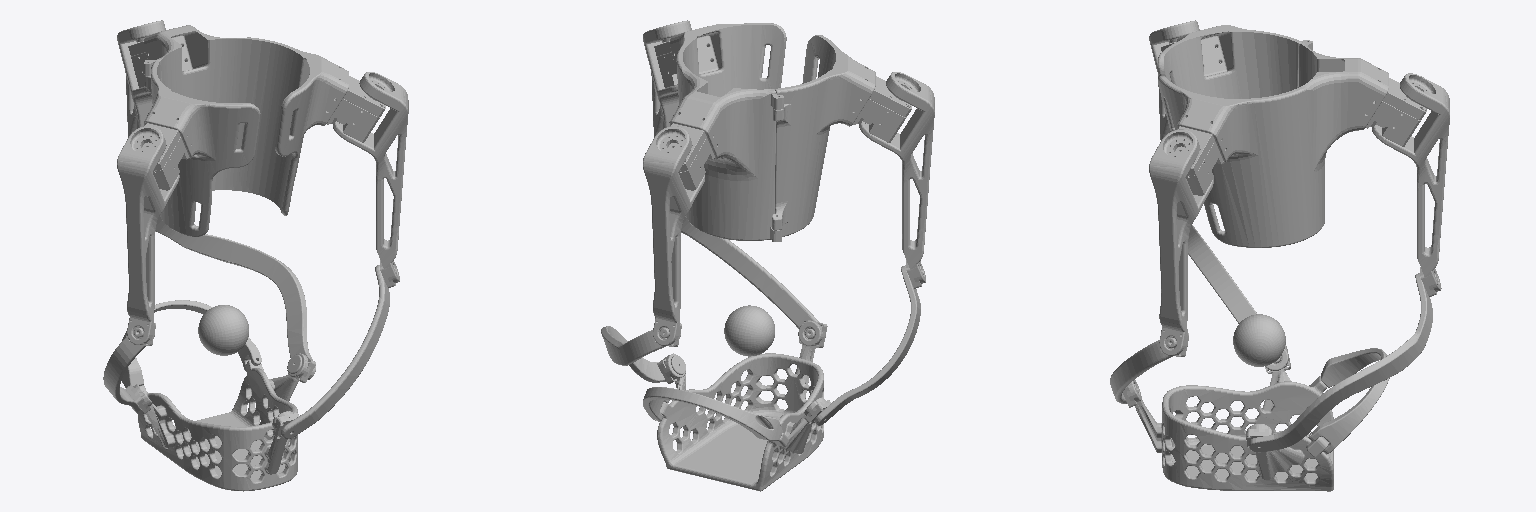
robot.urdf — rh1:
<?xml version="1.0"?>
<!-- This URDF was automatically created by SolidWorks to URDF Exporter! Originally created by Stephen Brawner (brawner@gmail.com) 
     Commit Version: 1.6.0-4-g7f85cfe  Build Version: 1.6.7995.38578
     For more information, please see http://wiki.ros.org/sw_urdf_exporter -->
<robot
  name="rh1">
    <link name="world">
  </link>
  <joint name="base_to_wrold" type="fixed">
    <parent link="world"/> 
    <child link="base_link"/>
  </joint> 



  <link
    name="base_link">
    <inertial>
      <origin
        xyz="-9.89578390172552E-05 0.00396138423389414 0.0411335608160095"
        rpy="0 0 0" />
      <mass
        value="0.170511519490799" />
      <inertia
        ixx="0.000238526585134772"
        ixy="1.0932688478346E-06"
        ixz="8.41039025861367E-07"
        iyy="0.000214531783450309"
        iyz="8.43440257339762E-06"
        izz="0.000362941851636617" />
    </inertial>
    <visual>
      <origin
        xyz="0 0 0"
        rpy="0 0 0" />
      <geometry>
        <mesh
          filename="package://rh1/meshes/visual/base_link.STL" />
      </geometry>
      <material
        name="">
        <color
          rgba="0.752941176470588 0.752941176470588 0.752941176470588 1" />
      </material>
    </visual>
    <collision>
      <origin
        xyz="0 0 0"
        rpy="0 0 0" />
      <geometry>
        <mesh
          filename="package://rh1/meshes/visual/base_link.STL" />
      </geometry>
    </collision>
  </link>
  <link
    name="Link1">
    <inertial>
      <origin
        xyz="0.0595761636128956 -0.0381714139611611 0.0213524140159522"
        rpy="0 0 0" />
      <mass
        value="0.0139403061893374" />
      <inertia
        ixx="1.66858790034276E-05"
        ixy="1.15779908683568E-05"
        ixz="-1.18115279988749E-05"
        iyy="2.73380199393324E-05"
        iyz="7.56784792835447E-06"
        izz="2.60022691918555E-05" />
    </inertial>
    <visual>
      <origin
        xyz="0 0 0"
        rpy="0 0 0" />
      <geometry>
        <mesh
          filename="package://rh1/meshes/visual/Link1.STL" />
      </geometry>
      <material
        name="">
        <color
          rgba="0.752941176470588 0.752941176470588 0.752941176470588 1" />
      </material>
    </visual>
    <collision>
      <origin
        xyz="0 0 0"
        rpy="0 0 0" />
      <geometry>
        <mesh
          filename="package://rh1/meshes/visual/Link1.STL" />
      </geometry>
    </collision>
  </link>
  <joint
    name="joint1"
    type="revolute">
    <origin
      xyz="-0.00024316 -0.093653 0.063941"
      rpy="-1.1653 0 0" />
    <parent
      link="base_link" />
    <child
      link="Link1" />
    <axis
      xyz="0 0 1" />
    <limit
      lower="-3.14"
      upper="3.14"
      effort="0"
      velocity="0" />
  </joint>
  <link
    name="Link2">
    <inertial>
      <origin
        xyz="7.33342596648257E-08 0.0919365461921934 -0.0349000401041466"
        rpy="0 0 0" />
      <mass
        value="0.0488710971031766" />
      <inertia
        ixx="0.000100540082861538"
        ixy="-4.11665445003469E-11"
        ixz="1.05149444449355E-11"
        iyy="1.86993598480774E-05"
        iyz="2.93347870041737E-05"
        izz="8.6350497225283E-05" />
    </inertial>
    <visual>
      <origin
        xyz="0 0 0"
        rpy="0 0 0" />
      <geometry>
        <mesh
          filename="package://rh1/meshes/visual/Link2.STL" />
      </geometry>
      <material
        name="">
        <color
          rgba="0.752941176470588 0.752941176470588 0.752941176470588 1" />
      </material>
    </visual>
    <collision>
      <origin
        xyz="0 0 0"
        rpy="0 0 0" />
      <geometry>
        <mesh
          filename="package://rh1/meshes/visual/Link2.STL" />
      </geometry>
    </collision>
  </link>
  <joint
    name="joint2"
    type="revolute">
    <origin
      xyz="0.11105 -0.071151 0.068863"
      rpy="1.0806 0.92034 -2.5422" />
    <parent
      link="Link1" />
    <child
      link="Link2" />
    <axis
      xyz="0 0 -1" />
    <limit
      lower="-3.14"
      upper="3.14"
      effort="0"
      velocity="0" />
  </joint>
  <link
    name="Link3">
    <inertial>
      <origin
        xyz="-0.0040437 0.094764 0.057759"
        rpy="0 0 0" />
      <mass
        value="0.39517" />
      <inertia
        ixx="0.00073579"
        ixy="0.00012945"
        ixz="0.0001153"
        iyy="0.00058373"
        iyz="-3.9011E-05"
        izz="0.00057047" />
    </inertial>
    <visual>
      <origin
        xyz="0 0 0"
        rpy="0 0 0" />
      <geometry>
        <mesh
          filename="package://rh1/meshes/visual/Link3.STL" />
      </geometry>
      <material
        name="">
        <color
          rgba="0.75294 0.75294 0.75294 1" />
      </material>
    </visual>
    <collision>
      <origin
        xyz="0 0 0"
        rpy="0 0 0" />
      <geometry>
        <mesh
          filename="package://rh1/meshes/visual/Link3.STL" />
      </geometry>
    </collision>
  </link>
  <joint
    name="joint3"
    type="revolute">
    <origin
      xyz="0 0.1355 -0.031331"
      rpy="0.67602 0 0" />
    <parent
      link="Link2" />
    <child
      link="Link3" />
    <axis
      xyz="0 0 1" />
    <limit
      lower="-3.14"
      upper="3.14"
      effort="0"
      velocity="0" />
  </joint>
  <link
    name="Link4">
    <inertial>
      <origin
        xyz="-0.0444266184876221 0.0512750104381572 0.00184714563025645"
        rpy="0 0 0" />
      <mass
        value="0.0131177442111698" />
      <inertia
        ixx="1.65988183595215E-05"
        ixy="1.15204148826782E-05"
        ixz="3.88147683126482E-06"
        iyy="1.32842148169202E-05"
        iyz="-4.47985138422908E-06"
        izz="2.37865852527767E-05" />
    </inertial>
    <visual>
      <origin
        xyz="0 0 0"
        rpy="0 0 0" />
      <geometry>
        <mesh
          filename="package://rh1/meshes/visual/Link4.STL" />
      </geometry>
      <material
        name="">
        <color
          rgba="0.752941176470588 0.752941176470588 0.752941176470588 1" />
      </material>
    </visual>
    <collision>
      <origin
        xyz="0 0 0"
        rpy="0 0 0" />
      <geometry>
        <mesh
          filename="package://rh1/meshes/visual/Link4.STL" />
      </geometry>
    </collision>
  </link>
  <joint
    name="joint4"
    type="revolute">
    <origin
      xyz="-0.070045 0.01858 0.058418"
      rpy="0.97468 0 1.388" />
    <parent
      link="base_link" />
    <child
      link="Link4" />
    <axis
      xyz="0 0 1" />
    <limit
      lower="-3.14"
      upper="3.14"
      effort="0"
      velocity="0" />
  </joint>
  <link
    name="Link5">
    <inertial>
      <origin
        xyz="1.19788753145667E-05 0.0919350834021235 -0.0353942215193617"
        rpy="0 0 0" />
      <mass
        value="0.0488711044215503" />
      <inertia
        ixx="0.00010054008442932"
        ixy="-4.02538217941285E-11"
        ixz="1.06635228126978E-11"
        iyy="1.86993599328113E-05"
        iyz="2.93347862770357E-05"
        izz="8.63504998437201E-05" />
    </inertial>
    <visual>
      <origin
        xyz="0 0 0"
        rpy="0 0 0" />
      <geometry>
        <mesh
          filename="package://rh1/meshes/visual/Link5.STL" />
      </geometry>
      <material
        name="">
        <color
          rgba="0.752941176470588 0.752941176470588 0.752941176470588 1" />
      </material>
    </visual>
    <collision>
      <origin
        xyz="0 0 0"
        rpy="0 0 0" />
      <geometry>
        <mesh
          filename="package://rh1/meshes/visual/Link5.STL" />
      </geometry>
    </collision>
  </link>
  <joint
    name="joint5"
    type="revolute">
    <origin
      xyz="-0.082937 0.095722 0.033269"
      rpy="1.0995 0.56705 0.44676" />
    <parent
      link="Link4" />
    <child
      link="Link5" />
    <axis
      xyz="0 0 -1" />
    <limit
      lower="-3.14"
      upper="3.14"
      effort="0"
      velocity="0" />
  </joint>
  <!-- <link
    name="Link5_3">
    <inertial>
      <origin
        xyz="0.0043209 0.094334 0.074904"
        rpy="0 0 0" />
      <mass
        value="0.39517" />
      <inertia
        ixx="0.00044691"
        ixy="1.7137E-05"
        ixz="-3.5632E-05"
        iyy="0.00079394"
        iyz="8.9803E-05"
        izz="0.00064915" />
    </inertial>
    <visual>
      <origin
        xyz="0 0 0"
        rpy="0 0 0" />
      <geometry>
        <mesh
          filename="package://rh1/meshes/visual/Link5_3.STL" />
      </geometry>
      <material
        name="">
        <color
          rgba="0.75294 0.75294 0.75294 1" />
      </material>
    </visual>
    <collision>
      <origin
        xyz="0 0 0"
        rpy="0 0 0" />
      <geometry>
        <mesh
          filename="package://rh1/meshes/visual/Link5_3.STL" />
      </geometry>
    </collision>
  </link>
  <joint
    name="joint5_3"
    type="revolute">
    <origin
      xyz="1.1927E-05 0.14638 -0.045393"
      rpy="0.67602 0 0" />
    <parent
      link="Link5" />
    <child
      link="Link5_3" />
    <axis
      xyz="0 0 1" />
    <limit
      lower="-3.14"
      upper="3.14"
      effort="0"
      velocity="0" />
  </joint> -->
  <link
    name="Link6">
    <inertial>
      <origin
        xyz="-0.0739475687831217 0.0349537427983839 0.034940331960659"
        rpy="0 0 0" />
      <mass
        value="0.0212392066716247" />
      <inertia
        ixx="3.66167320440391E-05"
        ixy="9.99228864883115E-06"
        ixz="3.0535369705299E-05"
        iyy="6.8744630224176E-05"
        iyz="-5.38550044546958E-06"
        izz="4.38168642018627E-05" />
    </inertial>
    <visual>
      <origin
        xyz="0 0 0"
        rpy="0 0 0" />
      <geometry>
        <mesh
          filename="package://rh1/meshes/visual/Link6.STL" />
      </geometry>
      <material
        name="">
        <color
          rgba="0.752941176470588 0.752941176470588 0.752941176470588 1" />
      </material>
    </visual>
    <collision>
      <origin
        xyz="0 0 0"
        rpy="0 0 0" />
      <geometry>
        <mesh
          filename="package://rh1/meshes/visual/Link6.STL" />
      </geometry>
    </collision>
  </link>
  <joint
    name="joint6"
    type="revolute">
    <origin
      xyz="0.071451 0.0056756 0.056943"
      rpy="0.96525 0 -1.5708" />
    <parent
      link="base_link" />
    <child
      link="Link6" />
    <axis
      xyz="0 0 1" />
    <limit
      lower="-3.14"
      upper="3.14"
      effort="0"
      velocity="0" />
  </joint>
  <link
    name="Link7">
    <inertial>
      <origin
        xyz="5.98254873418469E-08 0.0919365571507467 -0.0350319483412185"
        rpy="0 0 0" />
      <mass
        value="0.0488710825057113" />
      <inertia
        ixx="0.000100540072742042"
        ixy="-4.07785582196455E-11"
        ixz="9.2288937465642E-12"
        iyy="1.8699358274256E-05"
        iyz="2.93347846640264E-05"
        izz="8.63504883664309E-05" />
    </inertial>
    <visual>
      <origin
        xyz="0 0 0"
        rpy="0 0 0" />
      <geometry>
        <mesh
          filename="package://rh1/meshes/visual/Link7.STL" />
      </geometry>
      <material
        name="">
        <color
          rgba="0.752941176470588 0.752941176470588 0.752941176470588 1" />
      </material>
    </visual>
    <collision>
      <origin
        xyz="0 0 0"
        rpy="0 0 0" />
      <geometry>
        <mesh
          filename="package://rh1/meshes/visual/Link7.STL" />
      </geometry>
    </collision>
  </link>
  <joint
    name="joint7"
    type="revolute">
    <origin
      xyz="-0.12811 0.040995 0.11558"
      rpy="1.942 0.96525 1.5708" />
    <parent
      link="Link6" />
    <child
      link="Link7" />
    <axis
      xyz="0 0 -1" />
    <limit
      lower="-3.14"
      upper="3.14"
      effort="0"
      velocity="0" />
  </joint>
  <!-- <link
    name="Link7_3">
    <inertial>
      <origin
        xyz="-0.00028918 0.088265 0.052598"
        rpy="0 0 0" />
      <mass
        value="0.39517" />
      <inertia
        ixx="0.00074094"
        ixy="-0.00014659"
        ixz="-7.9665E-05"
        iyy="0.00052073"
        iyz="-7.0973E-06"
        izz="0.00062833" />
    </inertial>
    <visual>
      <origin
        xyz="0 0 0"
        rpy="0 0 0" />
      <geometry>
        <mesh
          filename="package://rh1/meshes/visual/Link7_3.STL" />
      </geometry>
      <material
        name="">
        <color
          rgba="0.75294 0.75294 0.75294 1" />
      </material>
    </visual>
    <collision>
      <origin
        xyz="0 0 0"
        rpy="0 0 0" />
      <geometry>
        <mesh
          filename="package://rh1/meshes/visual/Link7_3.STL" />
      </geometry>
    </collision>
  </link>
  <joint
    name="joint7_3"
    type="revolute">
    <origin
      xyz="0 0.13462 -0.030364"
      rpy="0.67602 0 0" />
    <parent
      link="Link7" />
    <child
      link="Link7_3" />
    <axis
      xyz="0 0 1" />
    <limit
      lower="-3.14"
      upper="3.14"
      effort="0"
      velocity="0" />
  </joint> -->

  <gazebo>

    <joint name='joint5_3' type='revolute'>
      <pose relative_to='Link5'>1.1927E-05 0.14638 -0.045393 0.67602 0 0</pose>
      <parent>Link3</parent>
      <child>Link5</child>
      <axis>
        <xyz>0 0 1</xyz>
      </axis>
    </joint>


    <joint name='joint7_3' type='revolute'>
      <pose relative_to='Link7'>0 0.13462 -0.030364 0.67602 0 0</pose>
      <parent>Link3</parent>
      <child>Link7</child>
      <axis>
        <xyz>0 0 1</xyz>
      </axis>
    </joint>          

  </gazebo>

</robot>

--- What the picture shows (computed from the rendered views, not written in the file) ---
The picture shows the robot from 3 angles, left to right: view 1: azimuth 30°, elevation 25°; view 2: azimuth 150°, elevation 25°; view 3: azimuth 270°, elevation 25°; orthographic projection.
Model rh1 with 9 links and 8 joints (7 revolute, 1 fixed), rooted at world, posed all joints at 0.
Links seen in each view (by area): view 1: Link3, base_link, Link5, Link2, Link6, Link1, Link7, Link4; view 2: Link3, base_link, Link7, Link5, Link1, Link6, Link2, Link4; view 3: Link3, base_link, Link2, Link7, Link6, Link4, Link1, Link5.
Boxes of the visible links, x1,y1,x2,y2 form: Link3: (128,25,385,236); base_link: (122,300,315,491); Link5: (117,126,179,345); Link2: (333,72,408,287); Link6: (155,216,315,379); Link1: (281,265,396,438); Link7: (117,20,165,136); Link4: (103,328,154,412); Link3: (654,23,911,241); base_link: (643,305,830,491); Link7: (643,126,704,346); Link5: (859,72,934,288); Link1: (681,216,825,338); Link6: (601,326,685,382); Link2: (643,20,691,136); Link4: (814,265,923,425); Link3: (1158,25,1426,247); base_link: (1123,314,1389,491); Link2: (1149,129,1213,356); Link7: (1372,73,1449,296); Link6: (1249,273,1438,452); Link4: (1188,225,1280,363); Link1: (1110,338,1187,403); Link5: (1149,20,1199,139).
Bounding box of the posed robot: 0.2624 × 0.2579 × 0.3366 m (x, y, z).
Meshes: 8 distinct files referenced, 8 mesh visuals loaded (8 binary STL).
